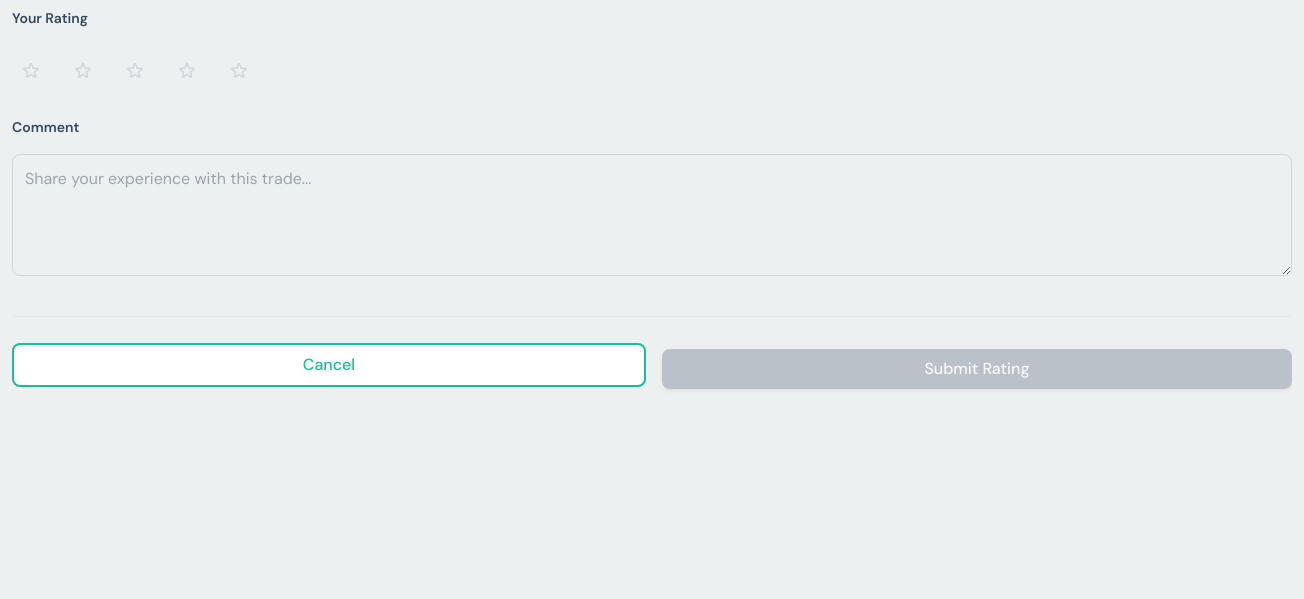
Test: RatingForm › Error Handling › displays generic error message when API returns no error message
The width and height of the screenshot is (1304, 599).
Note: Select 5 stars
Click the button named "rate 5 star". click: (242, 71)
box: [220,49,264,93]
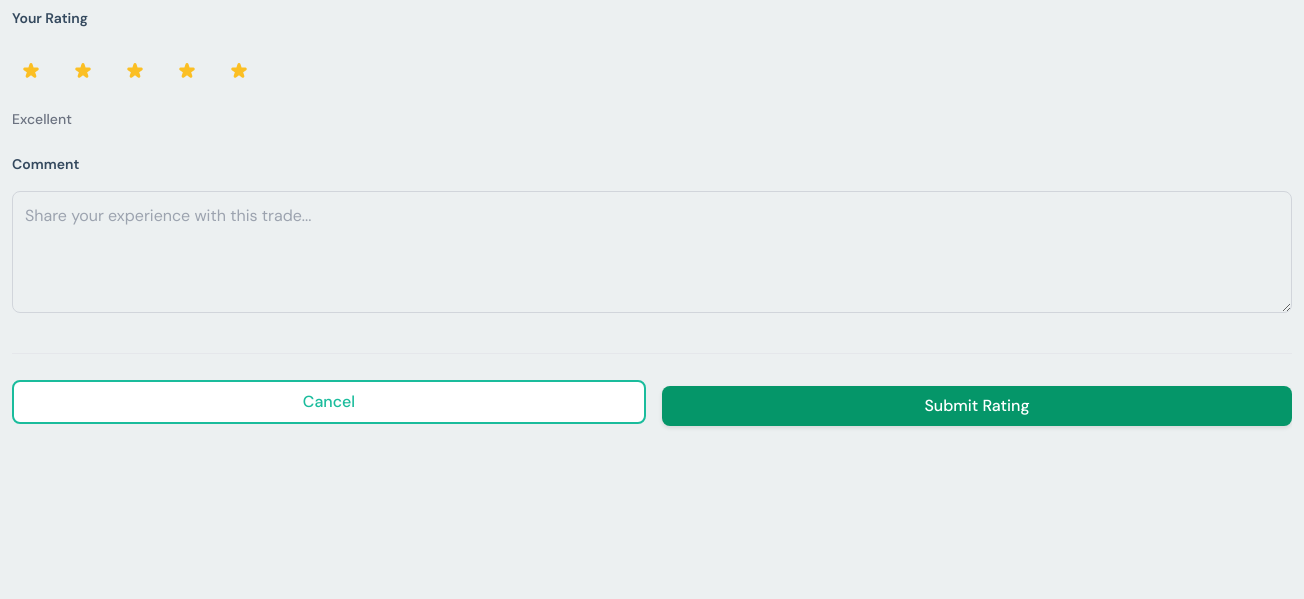
Click the button "Submit Rating". click: (977, 406)
box: [662,386,1292,426]
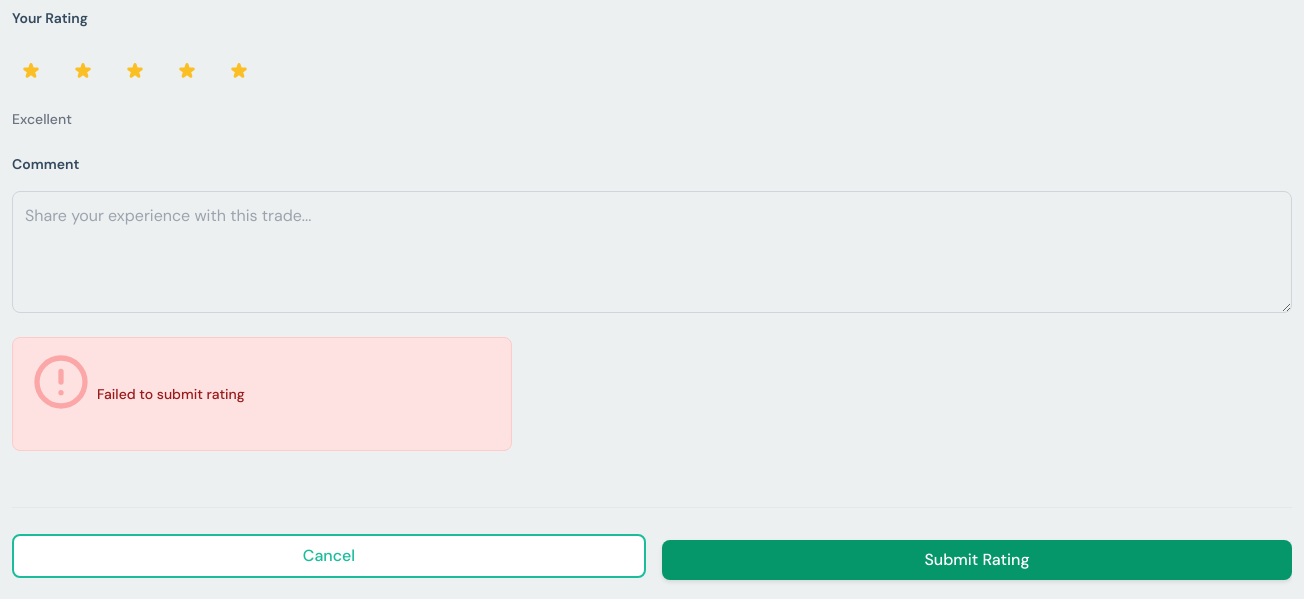
Now the text "Failed to submit rating" is shown, box [12,337,512,451]
